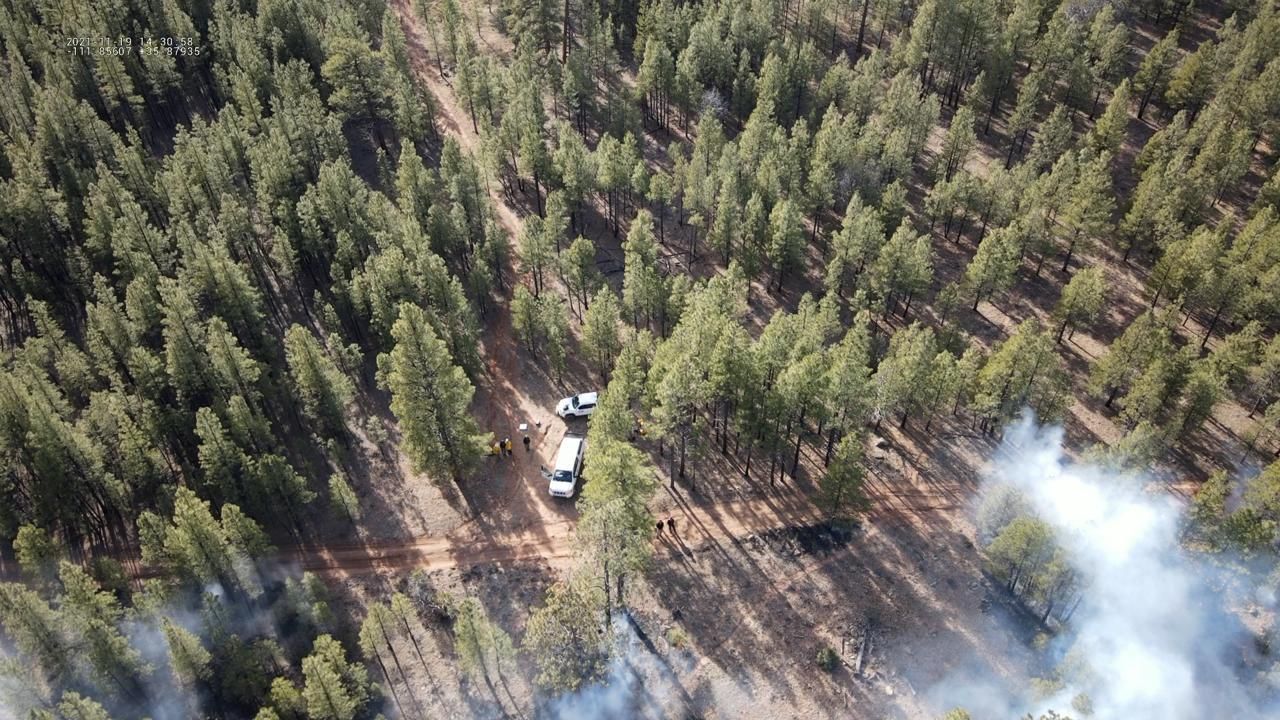smoke: (914, 403, 1280, 720), (0, 552, 314, 720), (531, 609, 696, 720)
